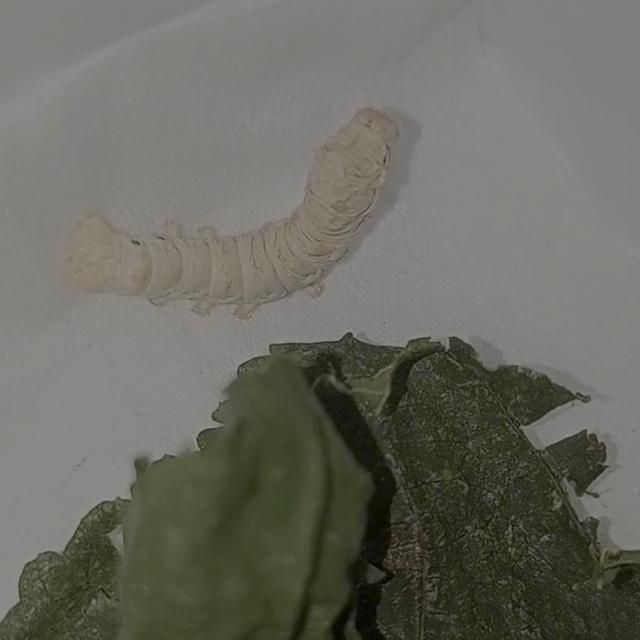Healthy: (56, 104, 403, 321)
